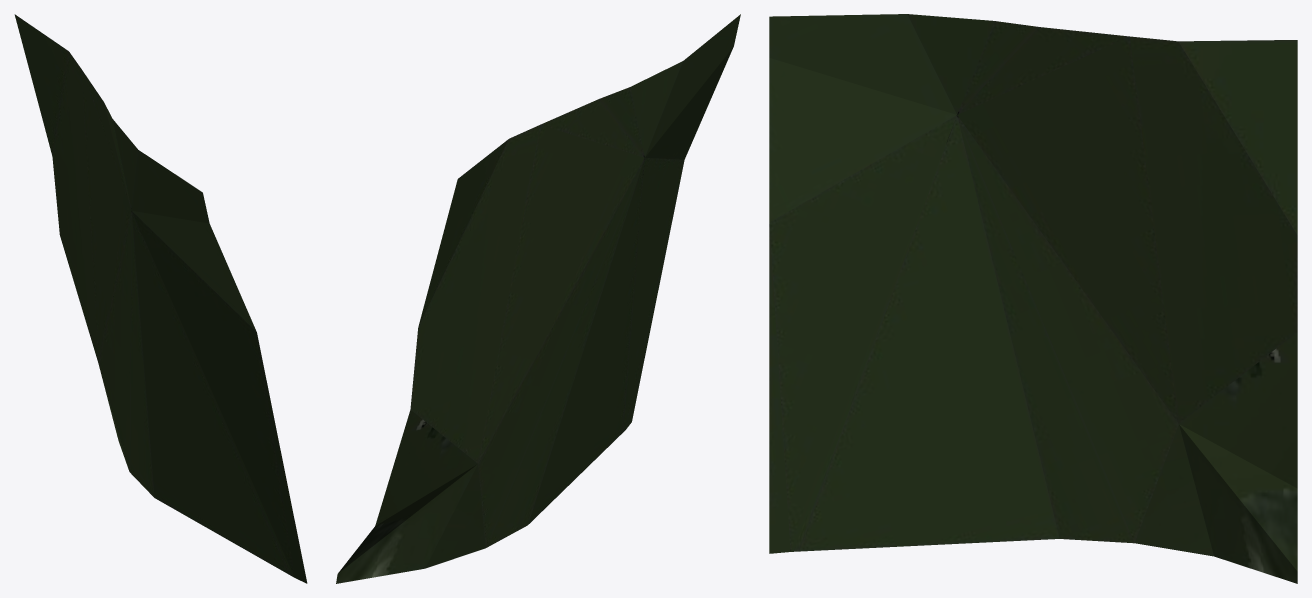
The picture shows the model from 3 angles, left to right: view 1: azimuth 30°, elevation 25°; view 2: azimuth 150°, elevation 25°; view 3: azimuth 270°, elevation 25°; orthographic projection. The views are drawn at different scales.
Bounding box in the file's own units: 1.21 × 2.95 × 2.95.
Materials: 3 (3 with a texture image).
